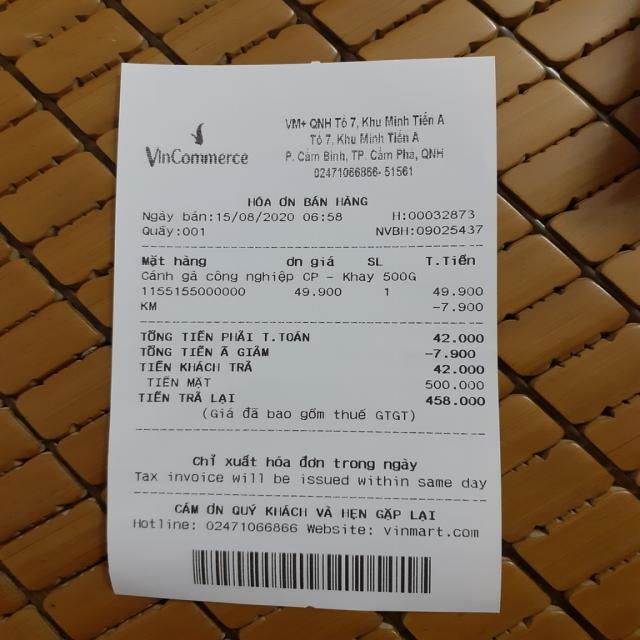Date: (215, 210, 296, 223)
Store_Name: (142, 146, 252, 170)
amount_number: (432, 332, 484, 344)
label_total: (136, 329, 314, 345)
